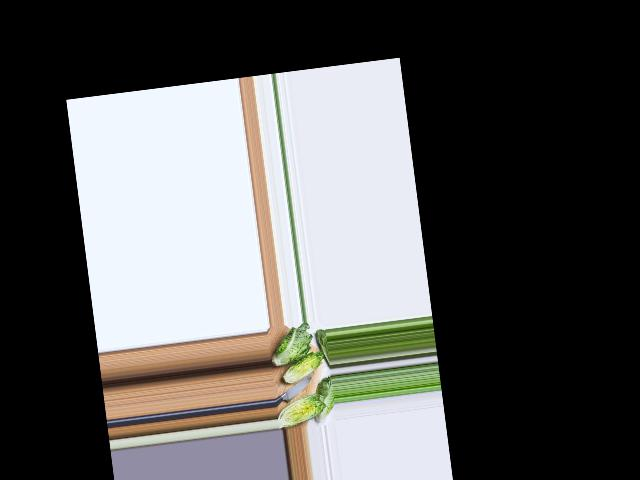lettuce: (311, 377, 334, 422)
